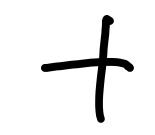plus: (42, 15, 134, 123)
